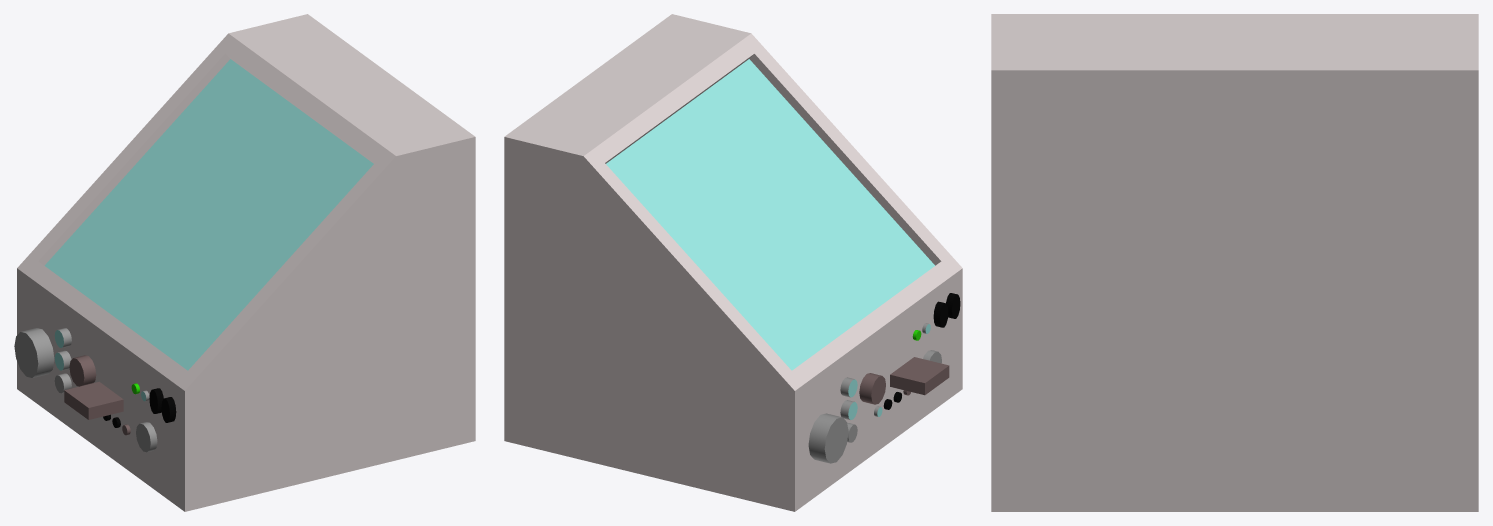
File: moniteur.FBX
The picture shows the model from 3 angles, left to right: view 1: azimuth 30°, elevation 25°; view 2: azimuth 150°, elevation 25°; view 3: azimuth 270°, elevation 25°; orthographic projection. The views are drawn at different scales.
Parts seen in each view (by area): view 1: Moniteur; view 2: Moniteur; view 3: Moniteur.
Boxes of the visible parts, box(x1,y1,x2,y2) form: Moniteur: box(14, 14, 475, 511); Moniteur: box(504, 14, 962, 511); Moniteur: box(991, 14, 1478, 511).
Size of the model in its own units: 165 by 145 by 145.
